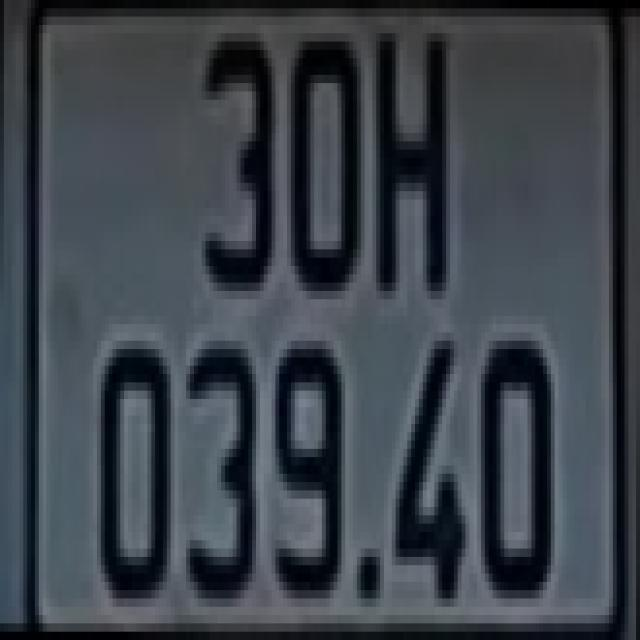0: (477, 332, 559, 598), (287, 25, 365, 291), (97, 332, 175, 598)
3: (182, 332, 260, 598), (198, 25, 276, 291)
4: (392, 324, 469, 607)
9: (268, 332, 346, 598)
H: (372, 17, 454, 292)
